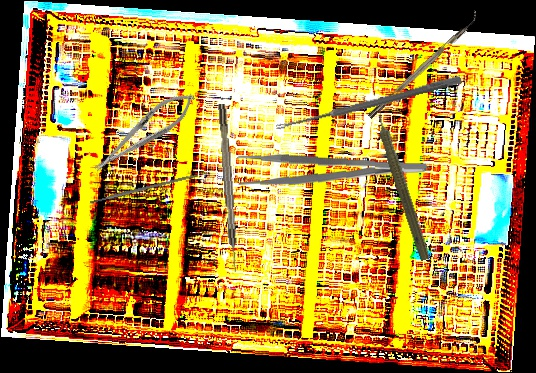Chopper: (362, 8, 483, 120)
Dressing Forceps: (236, 152, 428, 193)
Handpiece: (368, 103, 437, 262)
Hook Surgical: (218, 103, 239, 273)
Needle Holder: (86, 83, 202, 181)
Scalpel Handle: (89, 172, 199, 205)
Surgical Spoon: (275, 74, 462, 133)
